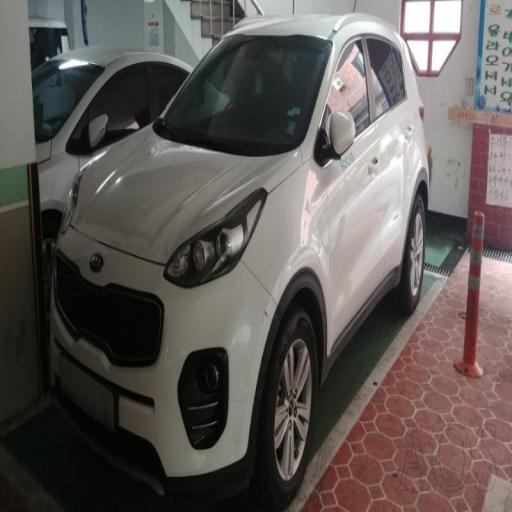dent: (269, 106, 412, 304)
